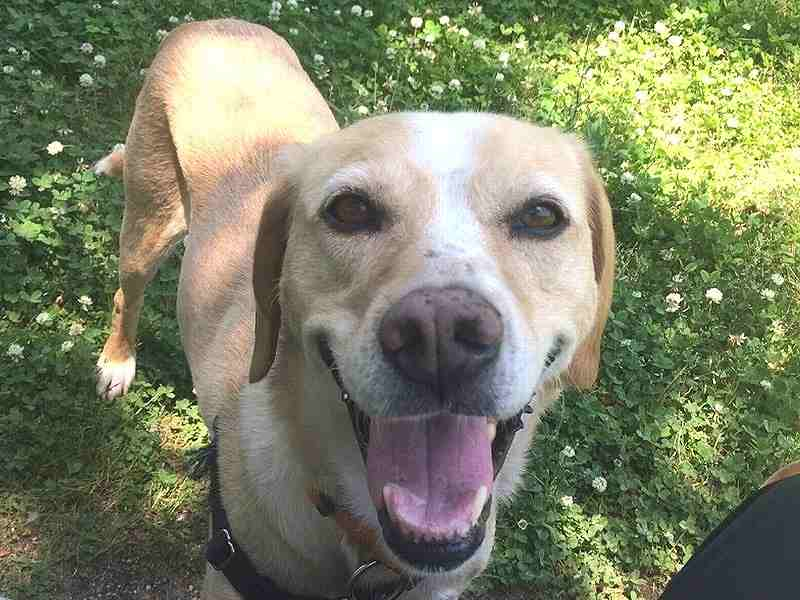dog: (101, 17, 608, 594)
